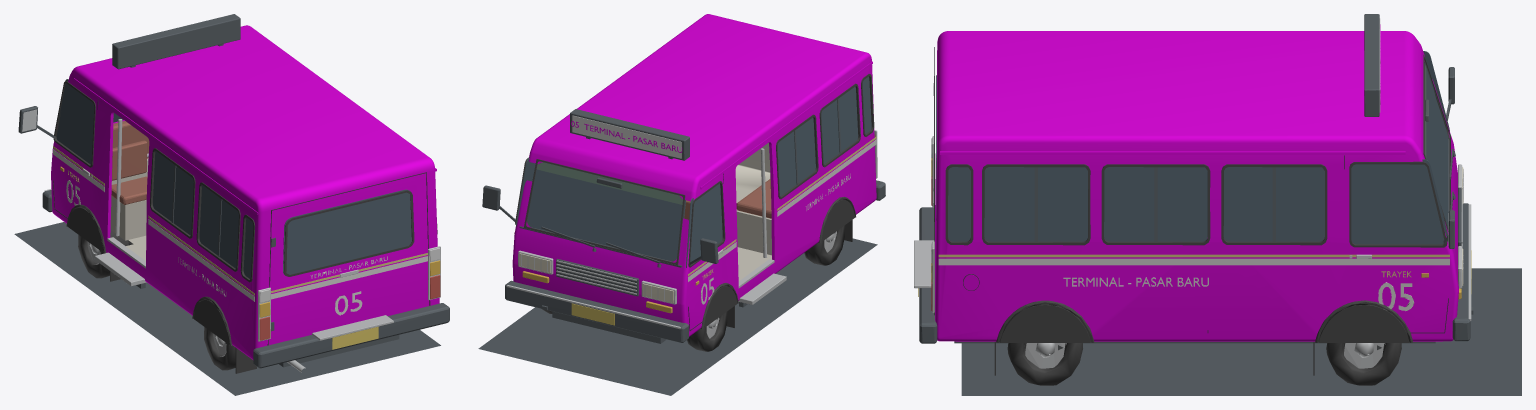
The model's file is angkot_05.glb.
3 views of the same model, side by side, from view 1: azimuth 30°, elevation 25°; view 2: azimuth 150°, elevation 25°; view 3: azimuth 270°, elevation 25° (orthographic). The views are drawn at different scales.
Parts seen in each view (by area): view 1: main, rem; view 2: main; view 3: main.
Part boxes in pixels (bbox=[...]): main: bbox=[14, 14, 449, 395]; rem: bbox=[259, 275, 440, 340]; main: bbox=[478, 14, 885, 395]; main: bbox=[914, 14, 1521, 395].
Bounding box in the file's own units: 2.39 × 2.02 × 3.95.
